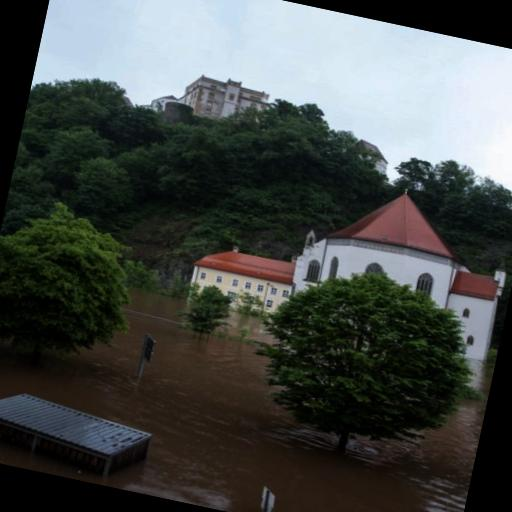flood: (0, 290, 487, 512)
house: (183, 149, 512, 365), (0, 376, 155, 488), (171, 68, 268, 132)
